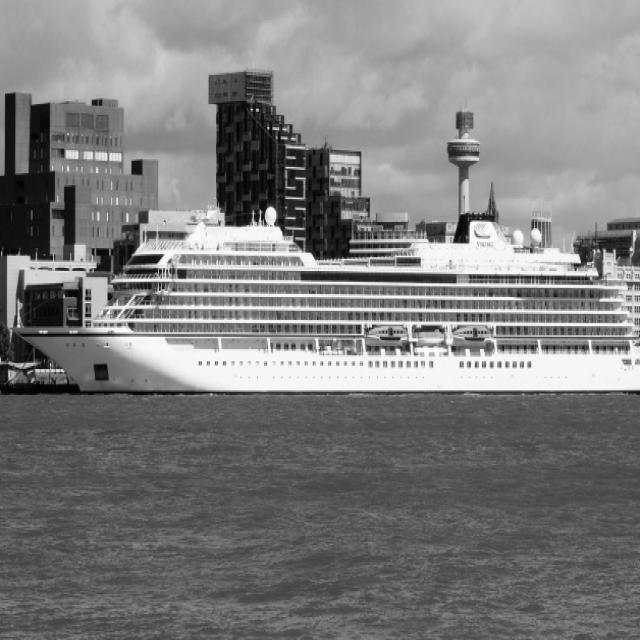cruises: (9, 183, 640, 410)
